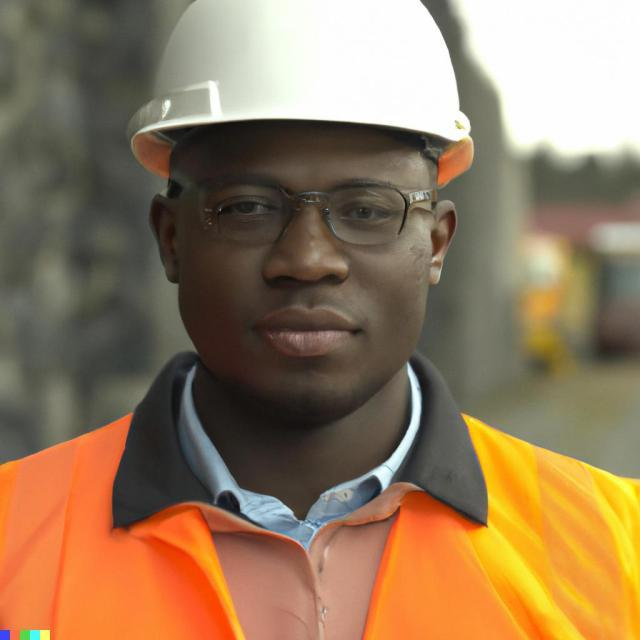Helmet: (130, 0, 477, 423)
